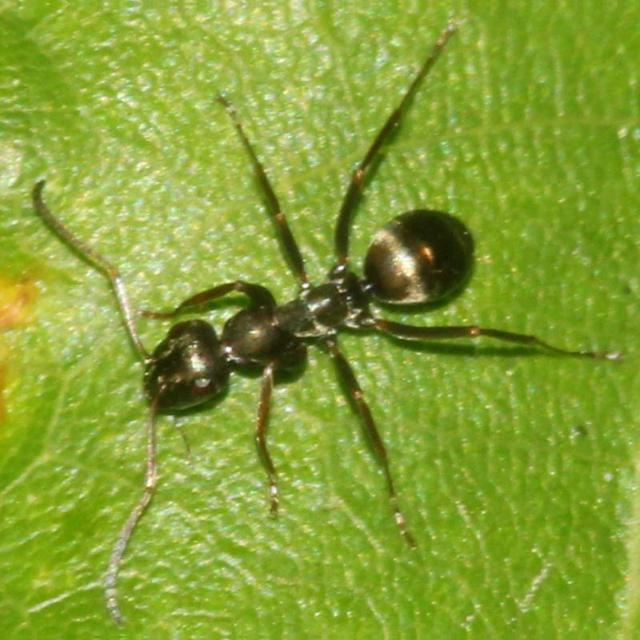Formica: (97, 176, 519, 440)
